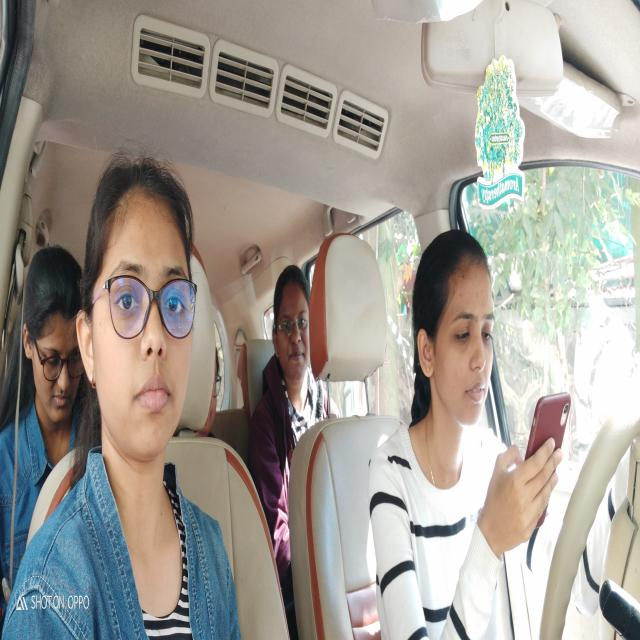mobile: (526, 384, 574, 512)
person: (78, 146, 203, 470), (411, 227, 498, 446), (22, 239, 88, 426), (270, 259, 315, 409), (207, 344, 223, 431)
